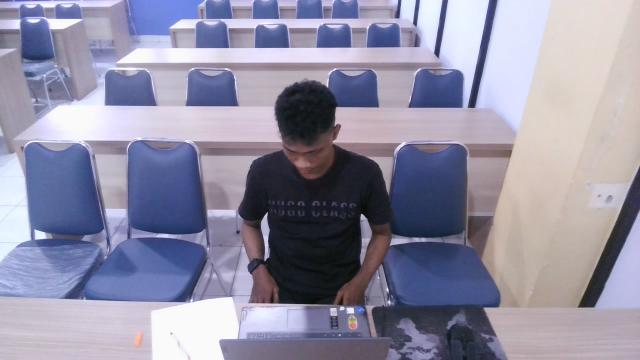Head_Down_Extreme: (238, 70, 383, 270)
